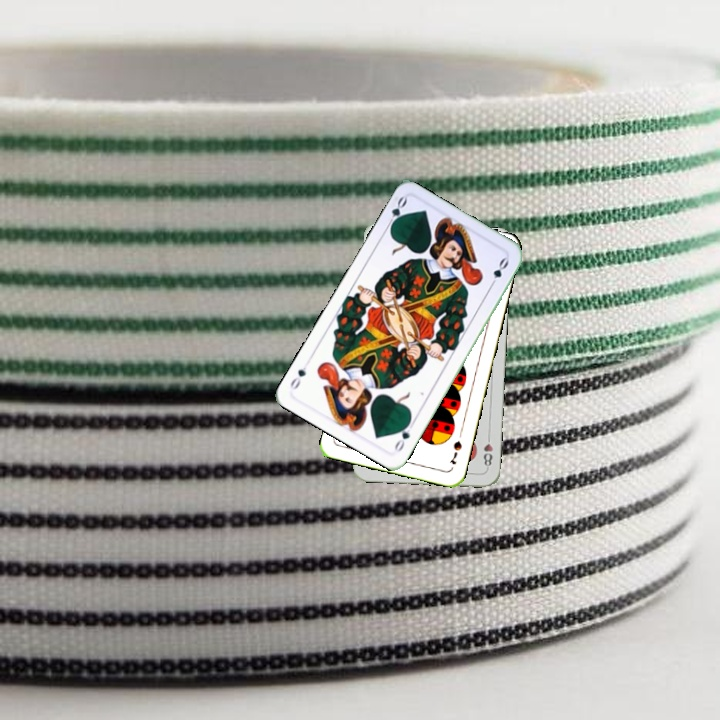GO: (382, 192, 410, 232), (390, 416, 417, 455)
H8: (479, 431, 495, 471)
S7: (446, 437, 464, 467)
